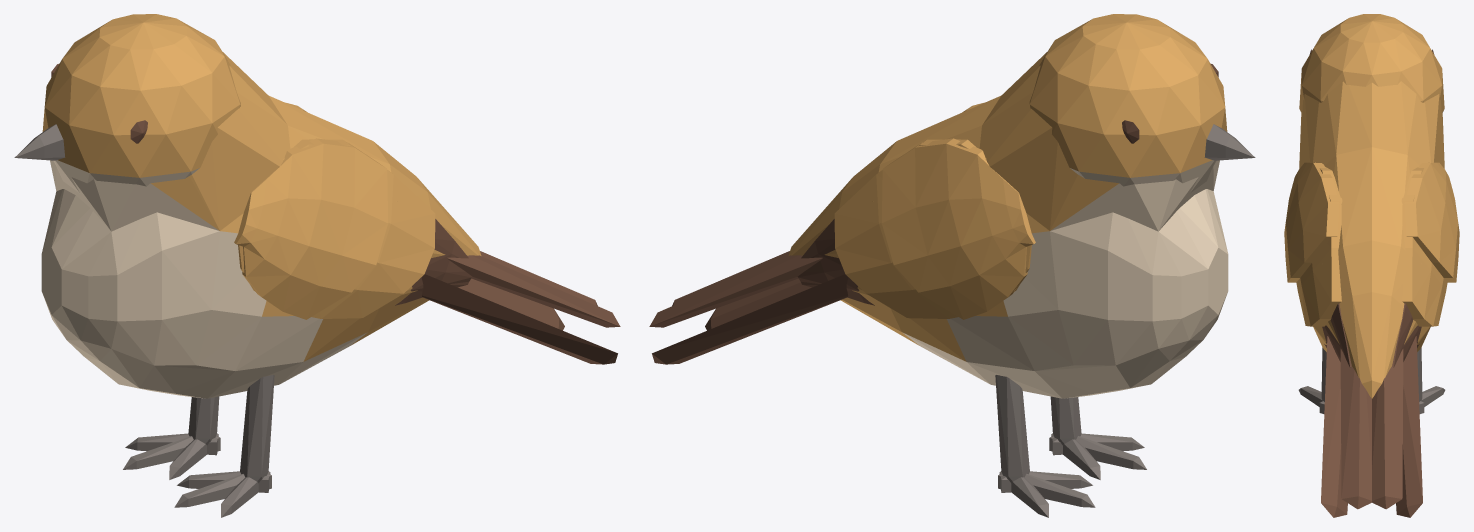
The model's file is KANJI_35_TORI.fbx.
The picture shows the model from 3 angles, left to right: view 1: azimuth 30°, elevation 25°; view 2: azimuth 150°, elevation 25°; view 3: azimuth 270°, elevation 25°; orthographic projection. The views are drawn at different scales.
Parts seen in each view (by area): view 1: SM_KANJI_35_Tori; view 2: SM_KANJI_35_Tori; view 3: SM_KANJI_35_Tori.
Boxes of the visible parts, x1,y1,x2,y2 form: SM_KANJI_35_Tori: (14,14,620,517); SM_KANJI_35_Tori: (649,14,1255,517); SM_KANJI_35_Tori: (1284,14,1459,517).
Bounding box in the file's own units: 0.24 × 0.18 × 0.08.
